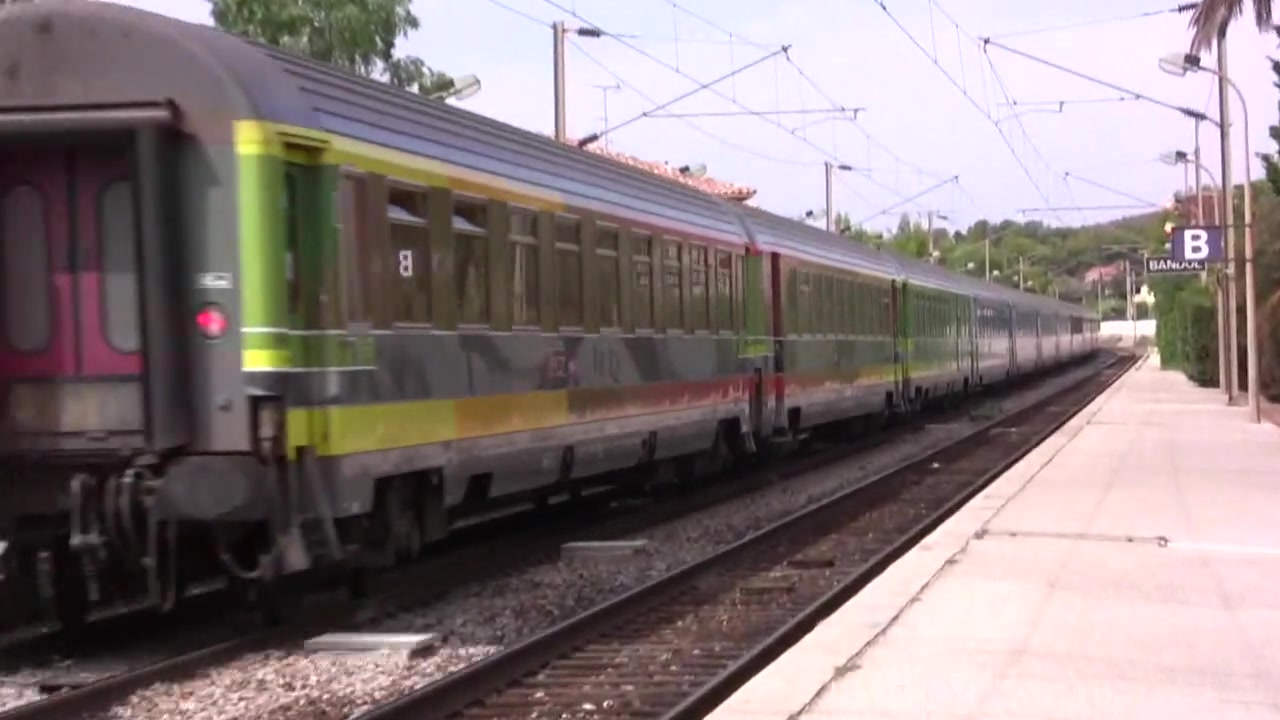train: (1, 1, 1104, 653)
